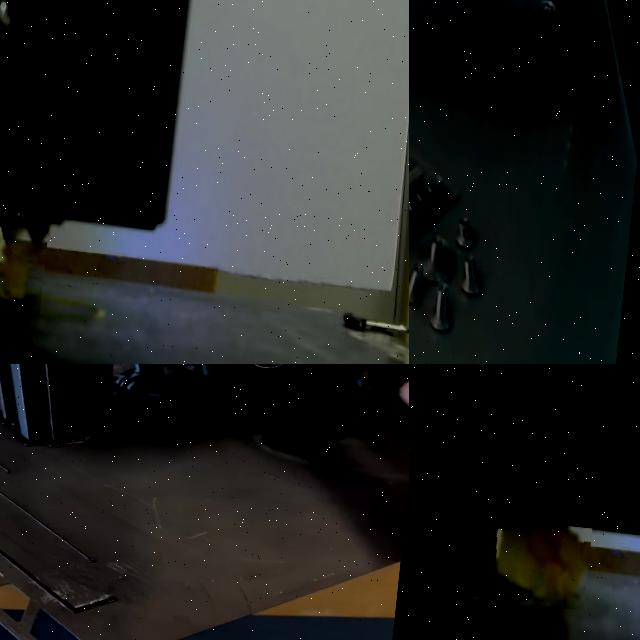spaghetti: (481, 517, 592, 614), (0, 202, 50, 321)
